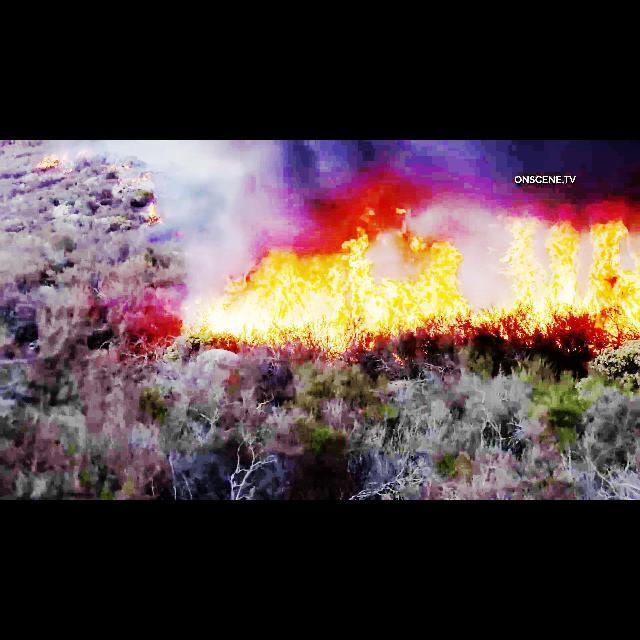Fire: (178, 215, 636, 348), (37, 151, 65, 173), (145, 200, 159, 230)
Smoke: (163, 144, 513, 210)
